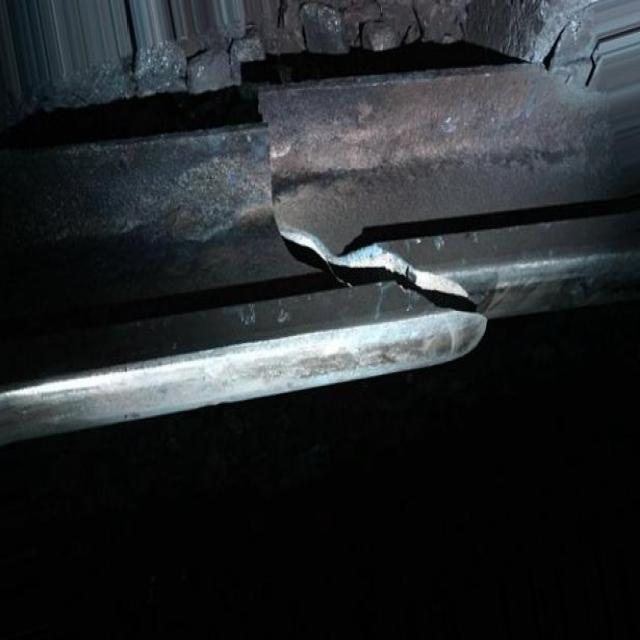crack: (168, 70, 520, 405)
